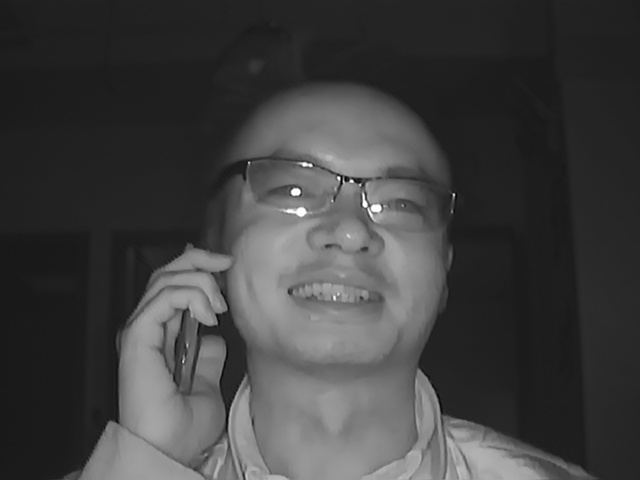hand: (123, 247, 238, 457)
